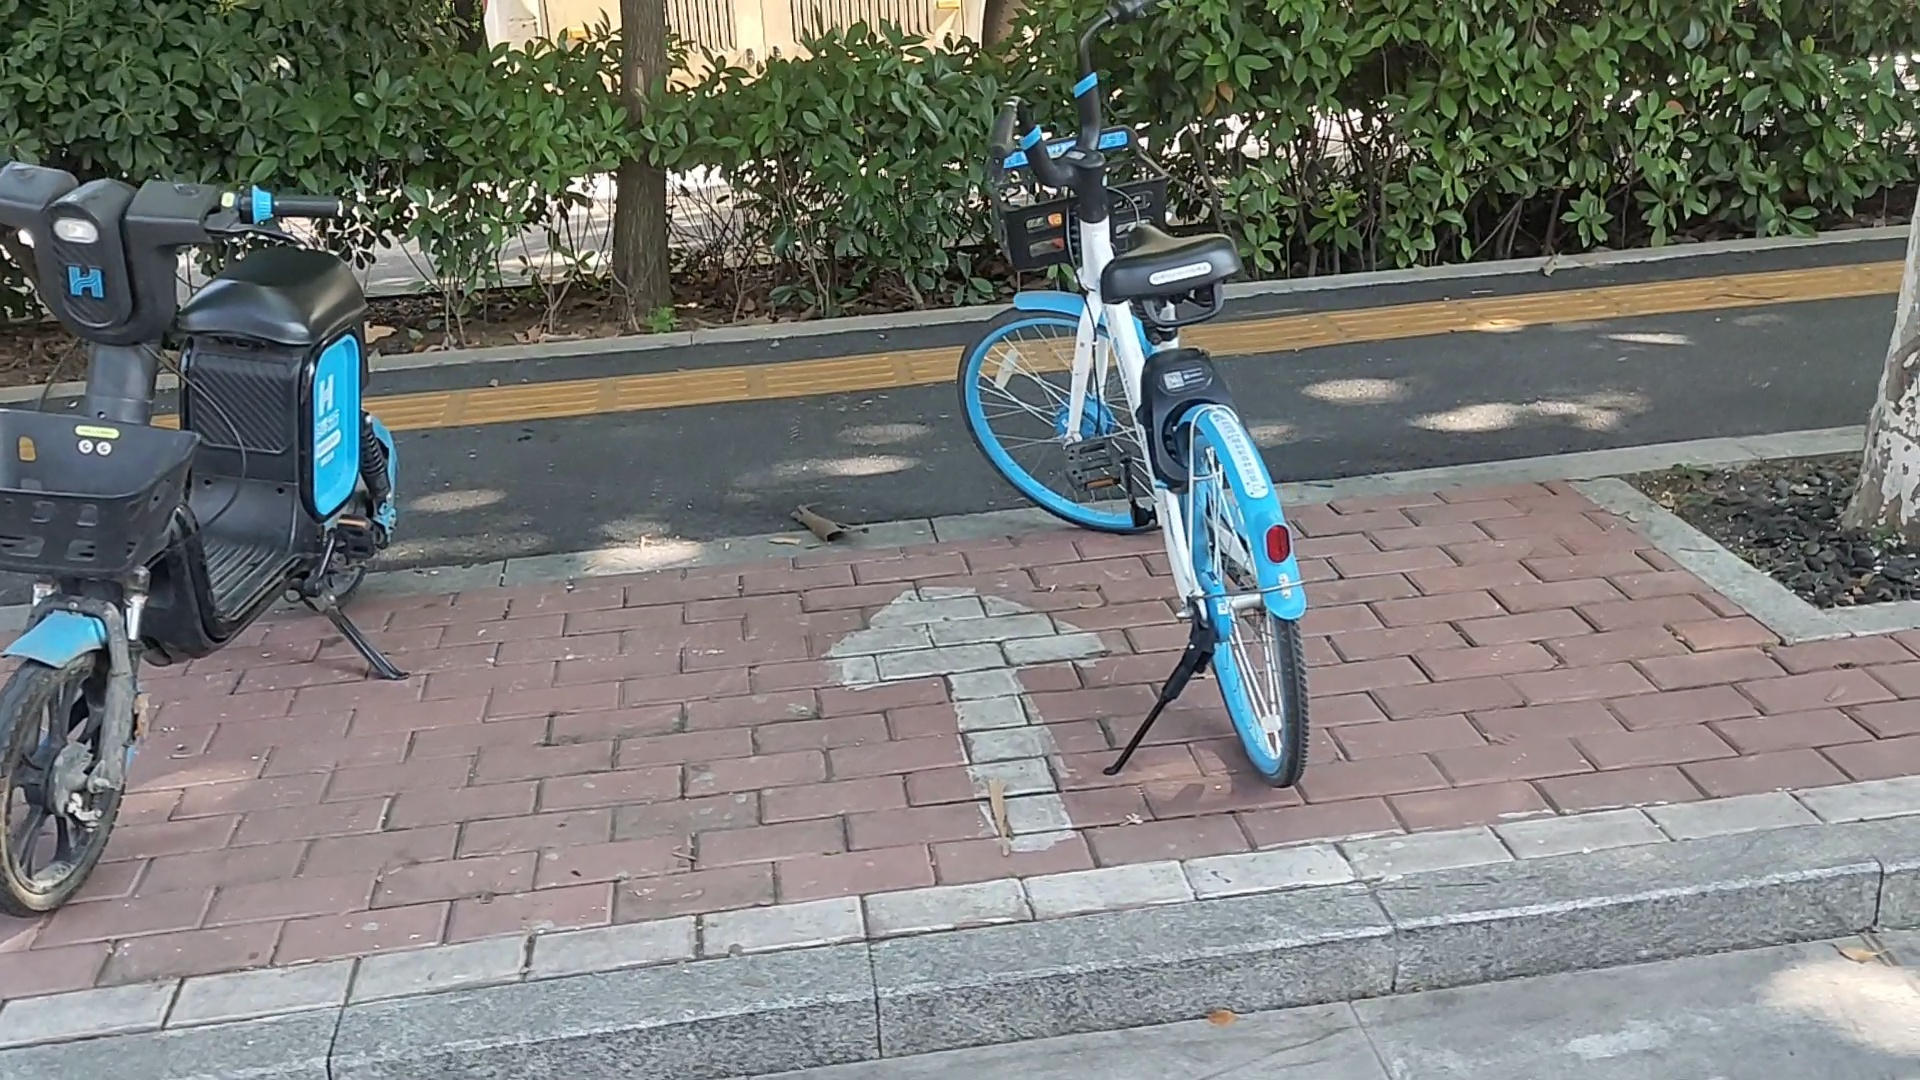non-vehicle: (0, 144, 422, 944), (959, 51, 1317, 804)
